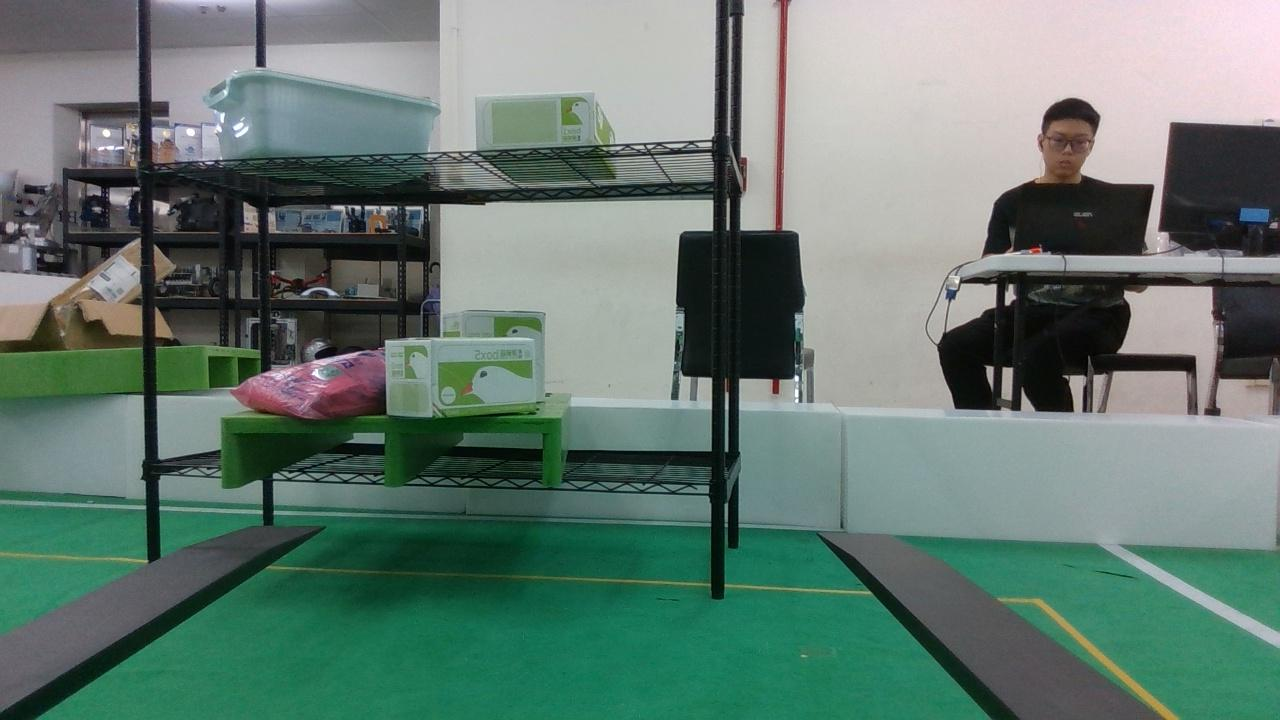Pallet: (219, 416, 563, 490)
